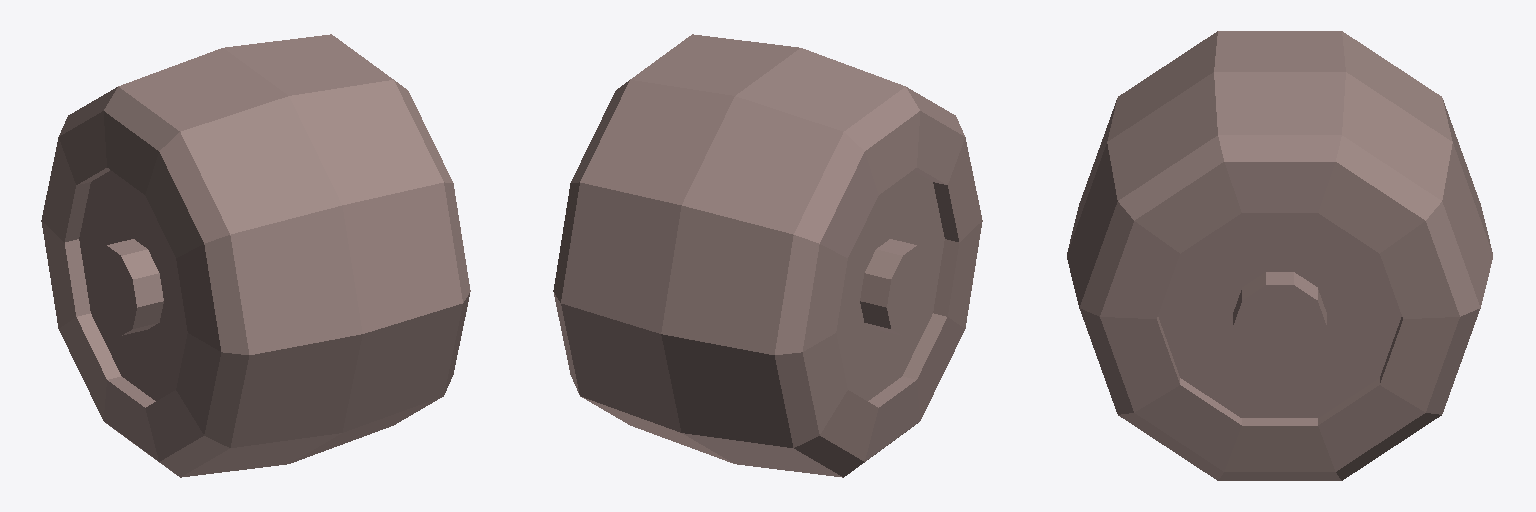
Rendered from wheel.obj.
3 renders of one model, left to right at view 1: azimuth 30°, elevation 25°; view 2: azimuth 150°, elevation 25°; view 3: azimuth 270°, elevation 25°, orthographic.
Parts seen in each view (by area): view 1: Circle; view 2: Circle; view 3: Circle.
Part boxes in pixels (x1,y1,x2,y2): Circle: (41, 34, 470, 477); Circle: (553, 34, 982, 477); Circle: (1067, 31, 1492, 480).
Bounding box in the file's own units: 0.5472 × 0.6776 × 0.7124.